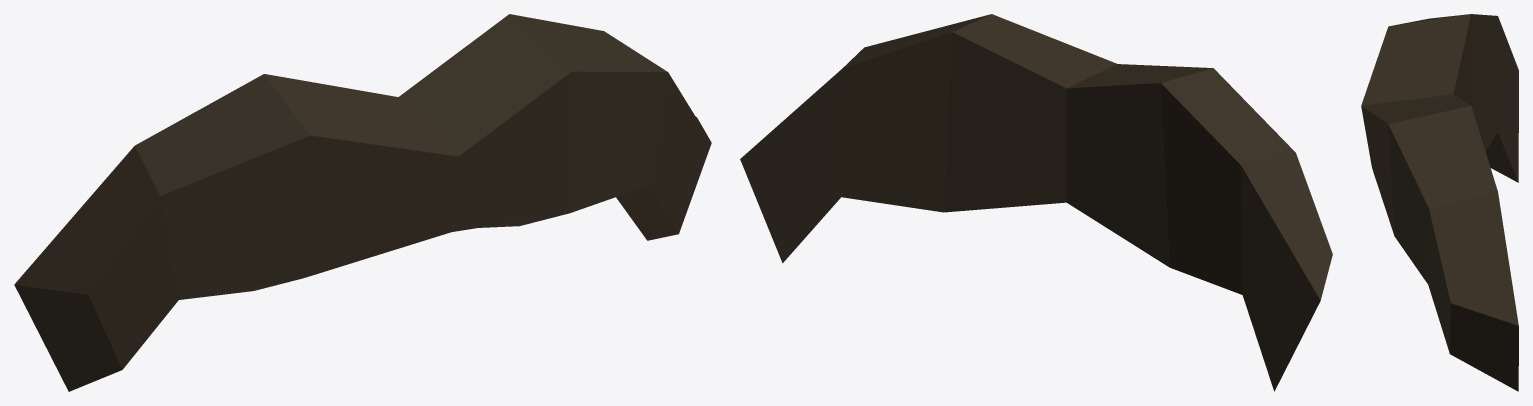
The model's file is SM_Chr_Attach_Beard_09_Mustache.fbx.
3 views of the same model, side by side, from view 1: azimuth 30°, elevation 25°; view 2: azimuth 150°, elevation 25°; view 3: azimuth 270°, elevation 25° (orthographic). The views are drawn at different scales.
Visible parts, largest first — view 1: SM_Chr_Attach_Beard_09_Mustache; view 2: SM_Chr_Attach_Beard_09_Mustache; view 3: SM_Chr_Attach_Beard_09_Mustache.
Part boxes in pixels (x1,y1,x2,y2): SM_Chr_Attach_Beard_09_Mustache: (14,14,711,391); SM_Chr_Attach_Beard_09_Mustache: (740,14,1332,391); SM_Chr_Attach_Beard_09_Mustache: (1361,14,1518,391).
Bounding box in the file's own units: 12.46 × 5.24 × 3.25.
